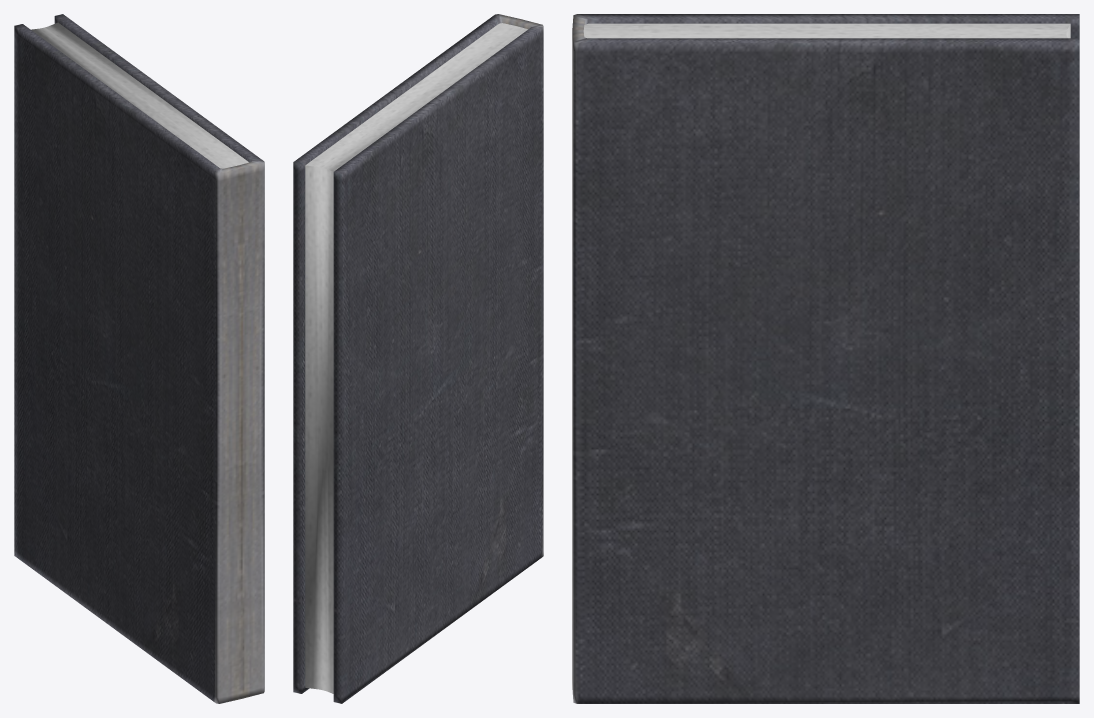
Rendered from SM_prop_Laboratory_Book_04.fbx.
The picture shows the model from 3 angles, left to right: view 1: azimuth 30°, elevation 25°; view 2: azimuth 150°, elevation 25°; view 3: azimuth 270°, elevation 25°; orthographic projection. The views are drawn at different scales.
Parts seen in each view (by area): view 1: SM_prop_Laboratory_Book_04; view 2: SM_prop_Laboratory_Book_04; view 3: SM_prop_Laboratory_Book_04.
Part boxes in pixels (left/top/right/bottom): SM_prop_Laboratory_Book_04: left=14, top=14, right=264, bottom=703; SM_prop_Laboratory_Book_04: left=293, top=14, right=543, bottom=703; SM_prop_Laboratory_Book_04: left=572, top=14, right=1079, bottom=703.
Bounding box in the file's own units: 1.81 × 18.87 × 13.13.
Materials: 1 (1 with a texture image).
